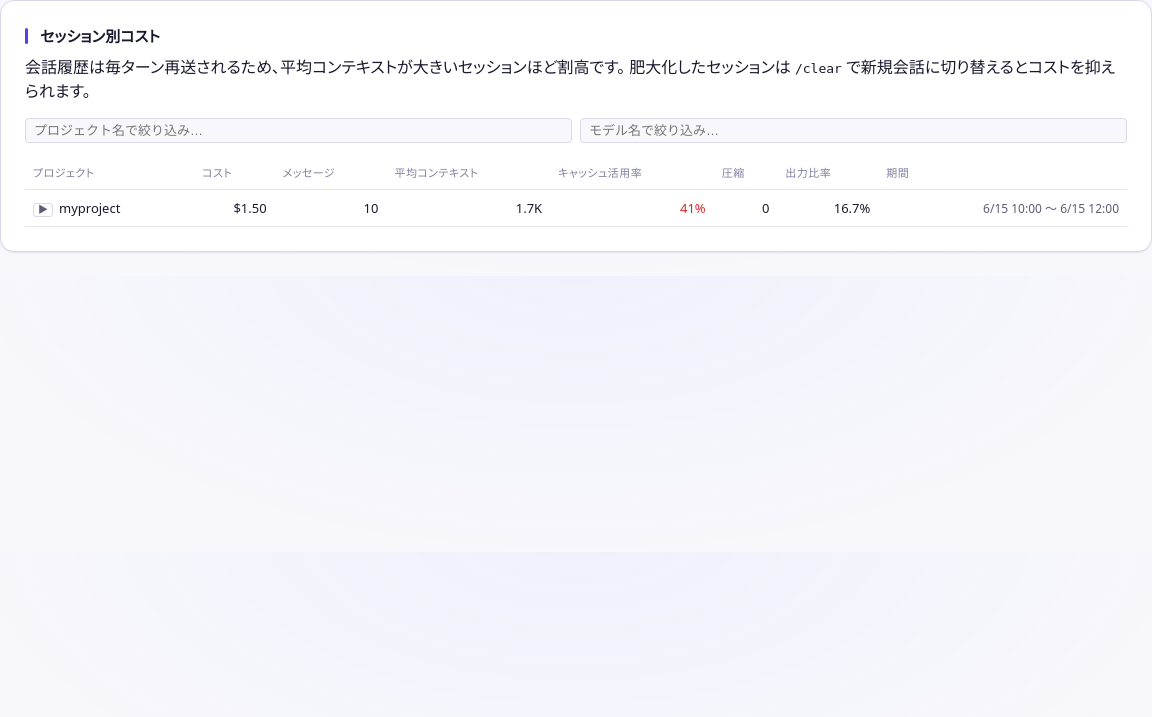
SessionBreakdown › fetchSessionTurns が成功すると累積コスト曲線も表示される
Step 1. Click the button named "詳細を展開" → x=43, y=210, box [33, 203, 53, 217]
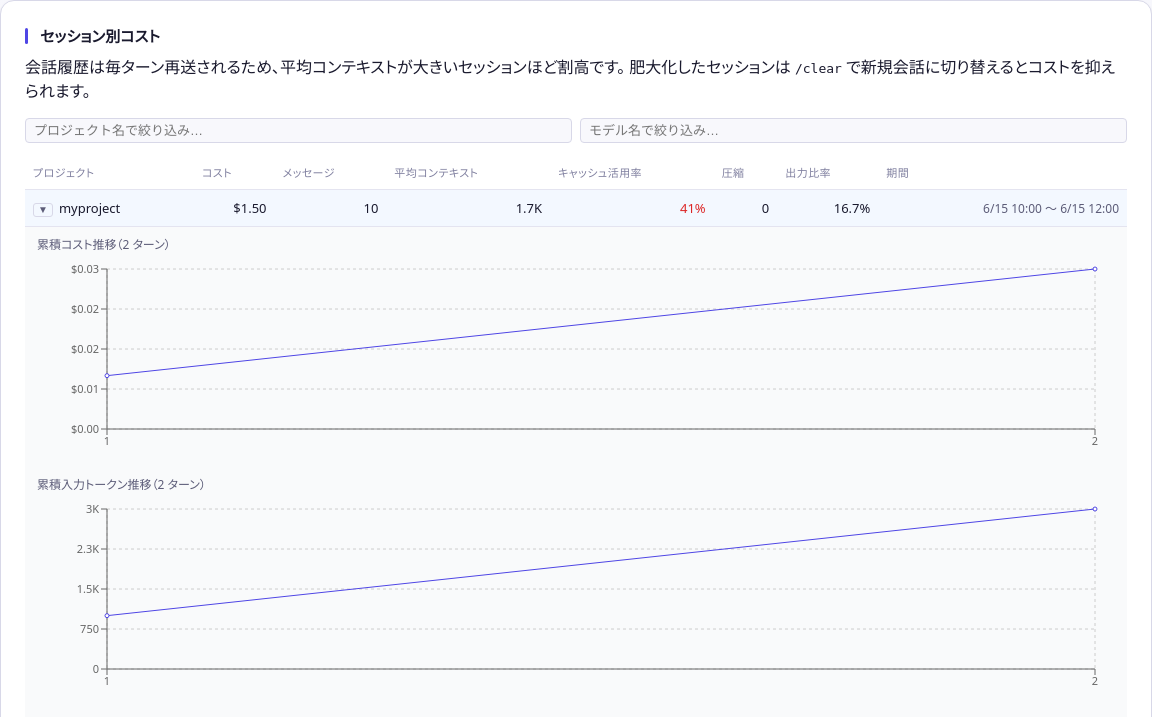
Result: the text "累積コスト推移（2 ターン）" is shown at [37, 236, 171, 253]
